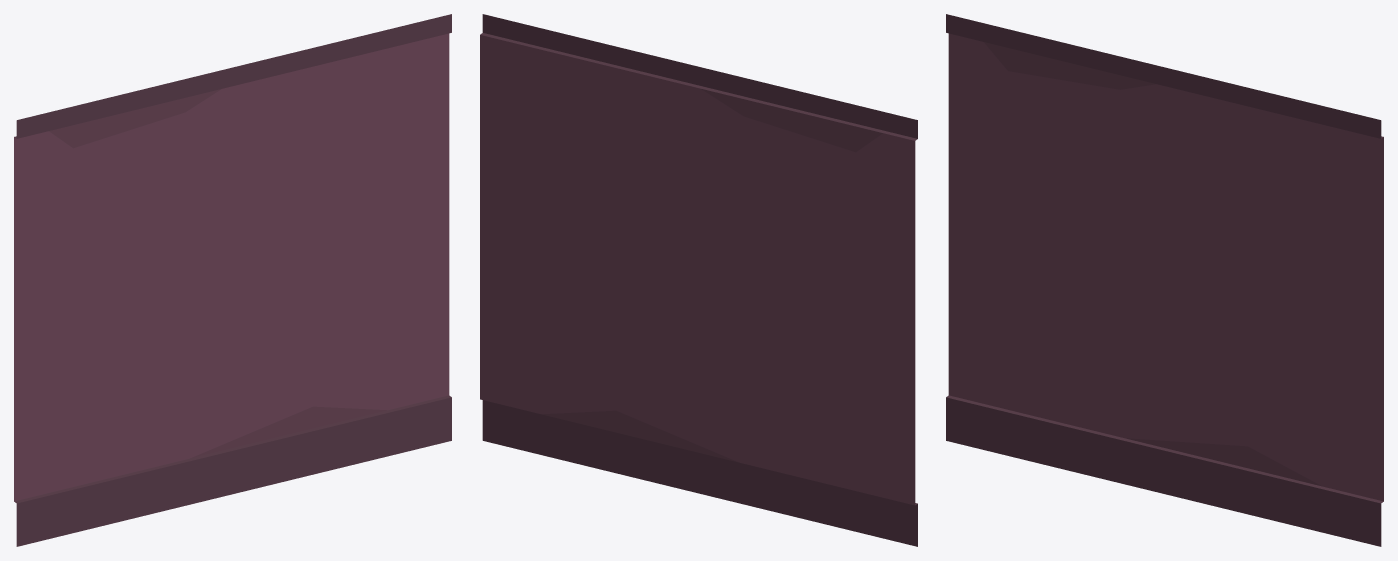
Rendered from AI_Env_Wall_Pink_Blank.fbx.
3 views of the same model, side by side, from view 1: azimuth 30°, elevation 25°; view 2: azimuth 150°, elevation 25°; view 3: azimuth 330°, elevation 25° (orthographic).
Parts seen in each view (by area): view 1: AI_Env_Wall_Pink_Blank; view 2: AI_Env_Wall_Pink_Blank; view 3: AI_Env_Wall_Pink_Blank.
Boxes of the visible parts, left/top/right/bottom form: AI_Env_Wall_Pink_Blank: left=14, top=14, right=451, bottom=546; AI_Env_Wall_Pink_Blank: left=480, top=14, right=917, bottom=546; AI_Env_Wall_Pink_Blank: left=946, top=14, right=1383, bottom=546.
Bounding box in the file's own units: 5 × 4.69 × 0.0549.
